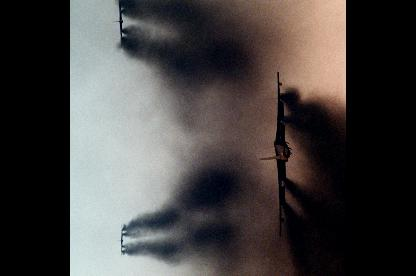B2: (260, 70, 292, 236), (111, 0, 123, 48), (118, 223, 122, 255)
